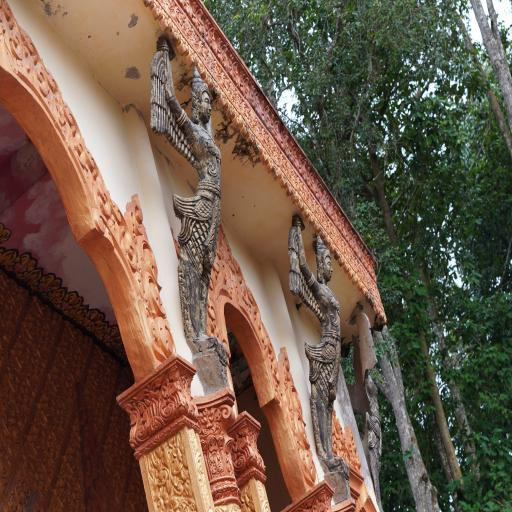la: (122, 367, 186, 441), (194, 406, 237, 499)
than: (140, 32, 238, 354), (280, 202, 364, 506), (340, 300, 392, 510)
